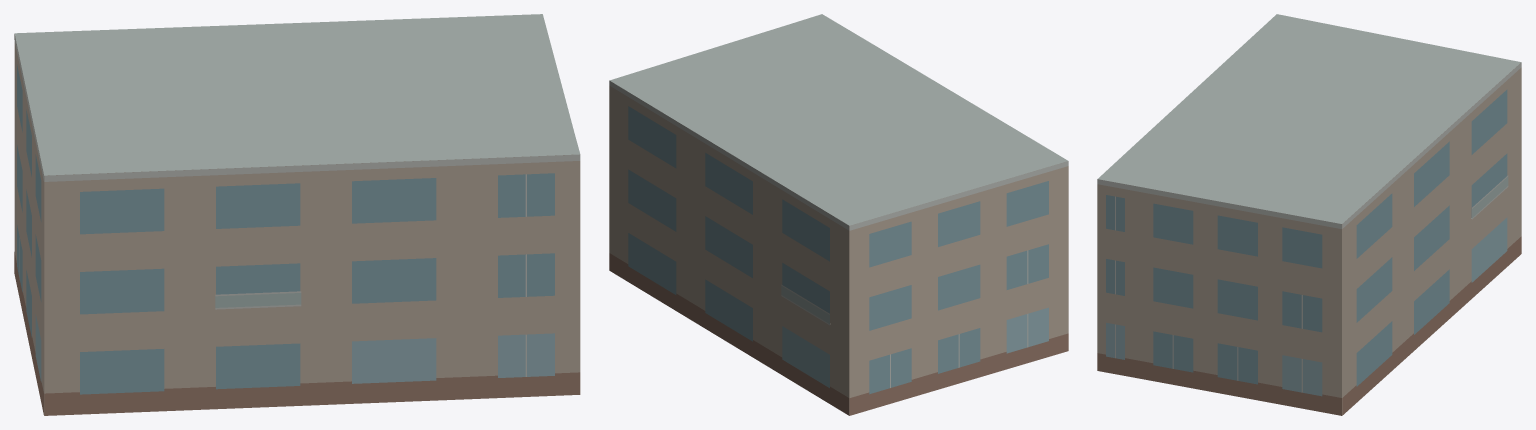
The model's file is survey-upis-32743225.glb.
3 views of the same model, side by side, from view 1: azimuth 30°, elevation 25°; view 2: azimuth 150°, elevation 25°; view 3: azimuth 270°, elevation 25° (orthographic). The views are drawn at different scales.
Visible parts, largest first — view 1: survey-upis-32743225.tmp; view 2: survey-upis-32743225.tmp; view 3: survey-upis-32743225.tmp.
Boxes of the visible parts, <box> form: survey-upis-32743225.tmp: <box>14,14,580,415</box>; survey-upis-32743225.tmp: <box>609,14,1068,415</box>; survey-upis-32743225.tmp: <box>1097,14,1521,415</box>.
Bounding box in the file's own units: 21.51 × 9.15 × 18.35.
